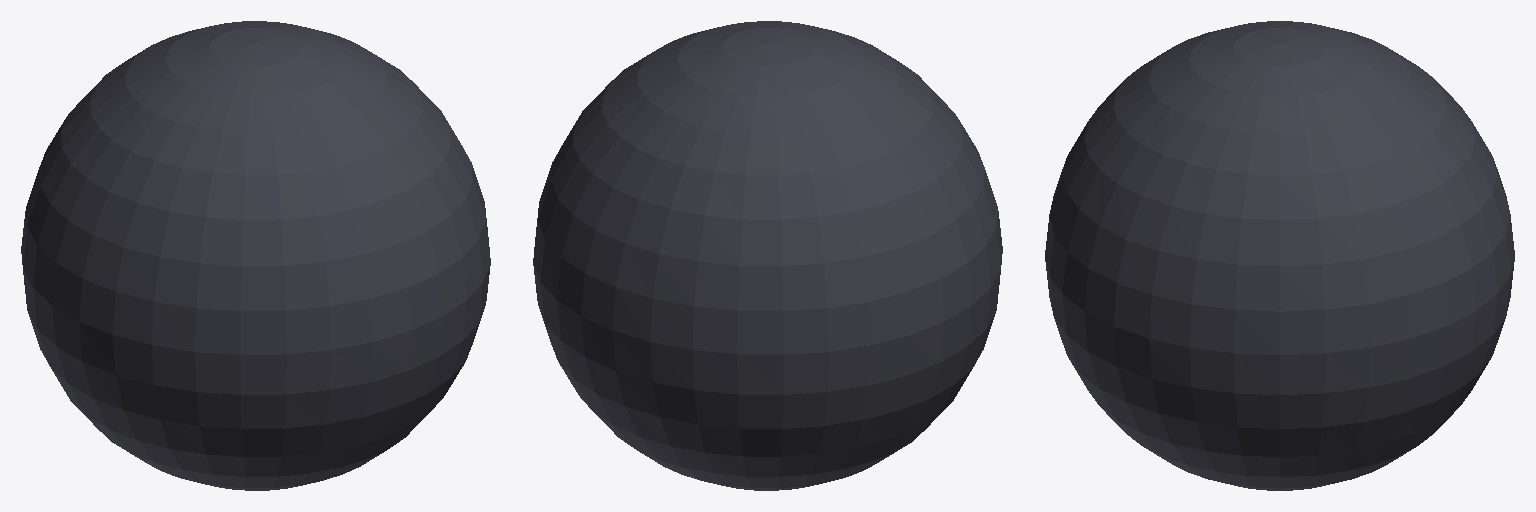
Rendered from smoke.obj.
The picture shows the model from 3 angles: view 1: azimuth 30°, elevation 25°; view 2: azimuth 150°, elevation 25°; view 3: azimuth 270°, elevation 25°; orthographic projection.
Parts seen in each view (by area): view 1: Sphere001; view 2: Sphere001; view 3: Sphere001.
Part boxes in pixels (bbox=[...]): Sphere001: bbox=[21, 21, 490, 490]; Sphere001: bbox=[533, 21, 1002, 490]; Sphere001: bbox=[1045, 21, 1514, 490].
Bounding box in the file's own units: 0.1 × 0.1 × 0.1.